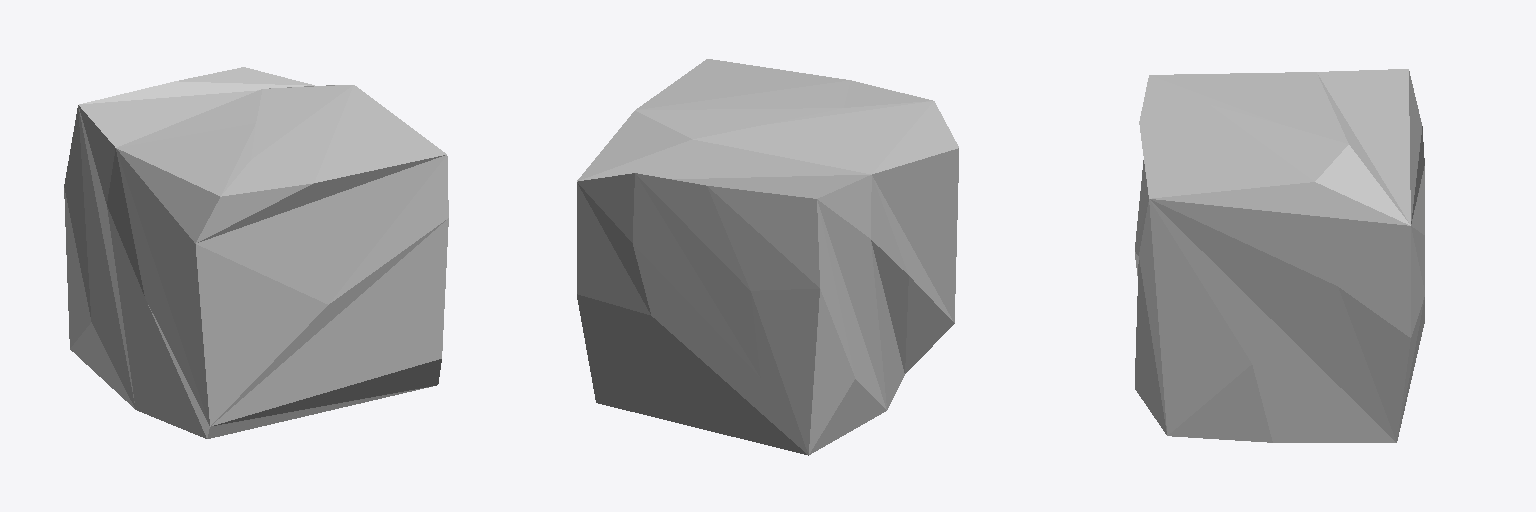
File: BlueDice.obj
The picture shows the model from 3 angles: view 1: azimuth 30°, elevation 25°; view 2: azimuth 150°, elevation 25°; view 3: azimuth 270°, elevation 25°; orthographic projection.
Bounding box in the file's own units: 10 × 10 × 10.